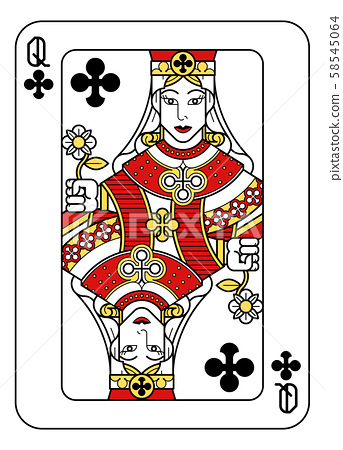queen of clubs: (14, 20, 307, 424)
